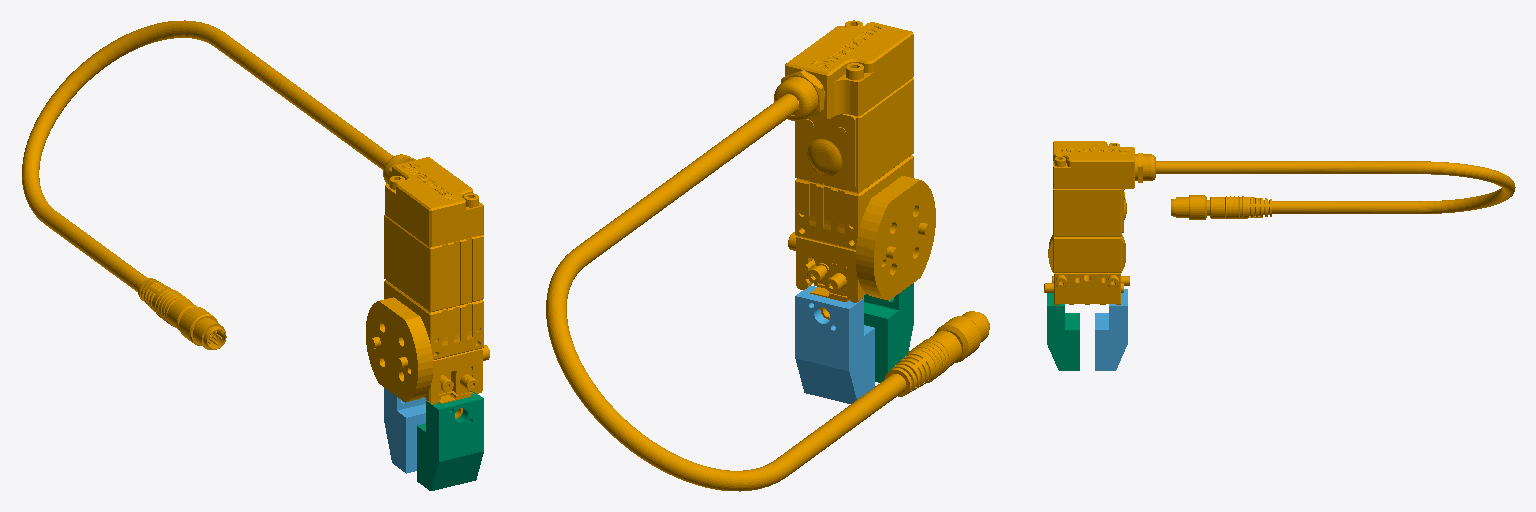
The robot description file, URDF, robot "meca_500_r3":
<?xml version="1.0" encoding="utf-8"?>

<robot name="meca_500_r3">

  <!-- world frame -->
  <!-- NOTE: defined as the location halfway between the 2 robots, which is consequently the x position of the -->
  <!-- middle scaffolding rail. Here I use -250 mm because I am defining robot1 in particular (left robot). -->
  <link name="world" />
  <joint name="meca_in_world" type="fixed" >
    <origin xyz="-.250 0 0.0" rpy="0 0 0" />
    <parent link="world" />
    <child link="meca_base_link" />
    <axis xyz="0 0 1" />    
  </joint>

  <!-- Base link is the center of the robot's bottom plate -->
  <link name="meca_base_link">
    <visual>
      <origin xyz="0 0 0" rpy="0 0 0" />
      <geometry>
        <mesh filename="meshes/meca_500_r3_base.dae" />
      </geometry>
    </visual>
    <collision>
      <origin xyz="0 0 0" rpy="0 0 0" />
      <geometry>
        <mesh filename="meshes/meca_500_r3_base_collision.stl" />
      </geometry>
    </collision>
  </link>

  <!-- Joint 1 -->
  <link name="meca_axis_1_link">
    <visual>
      <origin xyz="0 0 0" rpy="0 0 0" />
      <geometry>
        <mesh filename="meshes/meca_500_r3_j1.dae" />
      </geometry>
    </visual>
    <collision>
      <origin xyz="0 0 0" rpy="0 0 0" />
      <geometry>
        <mesh filename="meshes/meca_500_r3_j1_collision.stl" />
      </geometry>
    </collision>
  </link>

  <joint name="meca_axis_1_joint" type="revolute">
    <origin xyz="0.012498 0 0.091" rpy="0 0 0" />
    <parent link="meca_base_link" />
    <child link="meca_axis_1_link" />
    <axis xyz="0 0 1" />
    <limit effort="10.0" velocity="2.61799" lower="-3.05433" upper="3.05433" />
  </joint>

  <!-- Joint 2 -->
  <link name="meca_axis_2_link">
    <visual>
      <origin xyz="0 0 0" rpy="0 0 0" />
      <geometry>
        <mesh filename="meshes/meca_500_r3_j2.dae" />
      </geometry>
    </visual>
    <collision>
      <origin xyz="0 0 0" rpy="0 0 0" />
      <geometry>
        <mesh filename="meshes/meca_500_r3_j2_collision.stl" />
      </geometry>
    </collision>
  </link>

  <joint name="meca_axis_2_joint" type="revolute">
    <origin xyz="0 0 0.044" rpy="0 0 0" />
    <parent link="meca_axis_1_link" />
    <child link="meca_axis_2_link" />
    <axis xyz="0 1 0" />
    <limit effort="10.0" velocity="2.61799" lower="-1.22173048" upper="1.5708" />
  </joint>

  <!-- Joint 3 -->
  <link name="meca_axis_3_link">
    <visual>
      <origin xyz="0 0 0" rpy="0 0 0" />
      <geometry>
        <mesh filename="meshes/meca_500_r3_j3.dae" />
      </geometry>
    </visual>
    <collision>
      <origin xyz="0 0 0" rpy="0 0 0" />
      <geometry>
        <mesh filename="meshes/meca_500_r3_j3_collision.stl" />
      </geometry>
    </collision>
  </link>

  <joint name="meca_axis_3_joint" type="revolute">
    <origin xyz="0 0 0.135" rpy="0 0 0" />
    <parent link="meca_axis_2_link" />
    <child link="meca_axis_3_link" />
    <axis xyz="0 1 0" />
    <limit effort="10.0" velocity="3.14159" lower="-2.35619" upper="1.22173048" />
  </joint>

  <!-- Joint 4 -->
  <link name="meca_axis_4_link">
    <visual>
      <origin xyz="0 0 0" rpy="0 0 0" />
      <geometry>
        <mesh filename="meshes/meca_500_r3_j4.dae" />
      </geometry>
    </visual>
    <collision>
      <origin xyz="0 0 0" rpy="0 0 0" />
      <geometry>
        <mesh filename="meshes/meca_500_r3_j4_collision.stl" />
      </geometry>
    </collision>
  </link>

  <joint name="meca_axis_4_joint" type="revolute">
    <origin xyz="0 0 0.038" rpy="0 0 0" />
    <parent link="meca_axis_3_link" />
    <child link="meca_axis_4_link" />
    <axis xyz="1 0 0" />
    <limit effort="10.0" velocity="5.23599" lower="-2.96706" upper="2.96706" />
  </joint>

  <!-- Joint 5 -->
  <link name="meca_axis_5_link">
    <visual>
      <origin xyz="0 0 0" rpy="0 0 0" />
      <geometry>
        <mesh filename="meshes/meca_500_r3_j5.dae" />
      </geometry>
    </visual>
    <collision>
      <origin xyz="0 0 0" rpy="0 0 0" />
      <geometry>
        <mesh filename="meshes/meca_500_r3_j5_collision.stl" />
      </geometry>
    </collision>
  </link>

  <joint name="meca_axis_5_joint" type="revolute">
    <origin xyz="0.12 0 0" rpy="0 0 0" />
    <parent link="meca_axis_4_link" />
    <child link="meca_axis_5_link" />
    <axis xyz="0 1 0" />
    <limit effort="10.0" velocity="5.23599" lower="-2.00713" upper="2.00713" />
  </joint>

  <!-- Joint 6 -->
  <link name="meca_axis_6_link">
    <visual>
      <origin xyz="0 0 0" rpy="0 0 0" />
      <geometry>
        <mesh filename="meshes/meca_500_r3_j6.dae" />
      </geometry>
    </visual>
    <collision>
      <origin xyz="0 0 0" rpy="0 0 0" />
      <geometry>
        <mesh filename="meshes/meca_500_r3_j6_collision.stl" />
      </geometry>
    </collision>
  </link>
<!-- -0.361 -0.213 0.069 -->
  <joint name="meca_axis_6_joint" type="revolute">
    <origin xyz="0.07 0 0" rpy="0 0 0" />
    <parent link="meca_axis_5_link" />
    <child link="meca_axis_6_link" />
    <axis xyz="1 0 0" />
    <limit effort="10.0" velocity="8.72665" lower="-3.14159" upper="3.14159" />
  </joint>

  <!-- Gripper-->
  <link name="meca_gripper_link">
    <visual>
      <origin xyz="0 0 0" rpy="1.5708 0 0" />
      <geometry>
        <mesh filename="meshes/Gripper_origin_moved.stl" scale="0.001 0.001 0.001" />
      </geometry>
    </visual>
    <collision>
      <origin xyz="0 0 0" rpy="1.5708 0 0" />
      <geometry>
        <mesh filename="meshes/Gripper_origin_moved.stl" scale="0.001 0.001 0.001" />
      </geometry>
    </collision>
  </link>

  <joint name="meca_gripper_joint" type="fixed">
    <origin xyz="0 0 0" rpy="0 0 0" />
    <parent link="meca_axis_6_link" />
    <child link="meca_gripper_link" />
  </joint>
  
  <!-- Gripper Finger 1-->
  <link name="meca_gripper_finger1">
    <visual>
      <origin xyz="0 0 0" rpy="0 0 0" />
      <geometry>
        <mesh filename="meshes/Gripper_Finger_Origin_Centered_Nostep_5.5mm.STL" scale="0.001 0.001 0.001" />
      </geometry>
    </visual>
    <collision>
      <origin xyz="0 0 0" rpy="0 0 0" />
      <geometry>
        <mesh filename="meshes/Gripper_Finger_Origin_Centered_Nostep_5.5mm.STL" scale="0.001 0.001 0.001" />
      </geometry>
    </collision>
  </link>

  <joint name="meca_gripper_finger1_joint" type="fixed">
    <origin xyz=".01395 .0125 -.0170205" rpy="-1.570796 0 0" />
    <parent link="meca_gripper_link" />
    <child link="meca_gripper_finger1" />
  </joint>
  
  <!-- Gripper Finger 2-->
  <link name="meca_gripper_finger2">
    <visual>
      <origin xyz="0 0 0" rpy="0 0 0" />
      <geometry>
        <mesh filename="meshes/Gripper_Finger_Origin_Centered_Nostep_5.5mm.STL" scale="0.001 0.001 0.001" />
      </geometry>
    </visual>
    <collision>
      <origin xyz="0 0 0" rpy="0 0 0" />
      <geometry>
        <mesh filename="meshes/Gripper_Finger_Origin_Centered_Nostep_5.5mm.STL" scale="0.001 0.001 0.001" />
      </geometry>
    </collision>
  </link>

  <joint name="meca_gripper_finger2_joint" type="fixed">
    <origin xyz=".01395 -.0125 -.0170205" rpy="-1.570796 0 -3.141593" />
    <parent link="meca_gripper_link" />
    <child link="meca_gripper_finger2" />
  </joint>
</robot>

--- Render facts (derived) ---
Views: 3 orthographic renders of the robot side by side, from view 1: azimuth 30°, elevation 25°; view 2: azimuth 150°, elevation 25°; view 3: azimuth 270°, elevation 25°.
Model meca_500_r3 with 11 links and 10 joints (6 revolute, 4 fixed), rooted at world, posed all joints at 0.
Links seen in each view (by area): view 1: meca_gripper_link, meca_gripper_finger2, meca_gripper_finger1; view 2: meca_gripper_link, meca_gripper_finger1, meca_gripper_finger2; view 3: meca_gripper_link, meca_gripper_finger1, meca_gripper_finger2.
Link boxes in pixels (<box>): meca_gripper_link: <box>22,20,489,418</box>; meca_gripper_finger2: <box>417,392,483,490</box>; meca_gripper_finger1: <box>384,388,426,473</box>; meca_gripper_link: <box>546,20,989,491</box>; meca_gripper_finger1: <box>795,286,874,403</box>; meca_gripper_finger2: <box>864,283,913,382</box>; meca_gripper_link: <box>1044,141,1515,304</box>; meca_gripper_finger1: <box>1095,289,1127,370</box>; meca_gripper_finger2: <box>1047,293,1079,370</box>.
Size in the robot's own frame: 0.0693 by 0.1811 by 0.0901 metres.
3 mesh visuals loaded from 9 distinct referenced files (2 binary STL); not drawn: 7 (reference not matched to a file when rendering).